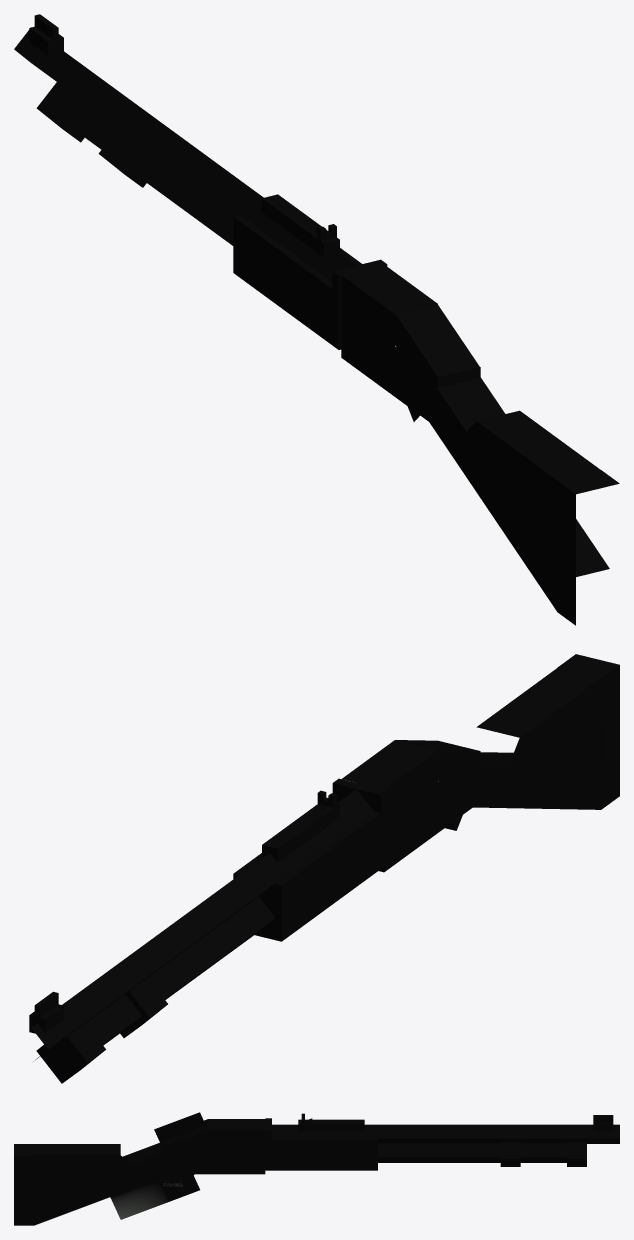
File: jeg_repeating_shotgun.glb
3 views of the same model, one above another, from view 1: azimuth 30°, elevation 25°; view 2: azimuth 150°, elevation 25°; view 3: azimuth 270°, elevation 25° (orthographic). The views are drawn at different scales.
Parts seen in each view (by area): view 1: Gun; view 2: Gun; view 3: Gun.
Part boxes in pixels (x1,y1,x2,y2): Gun: [14, 14, 619, 625]; Gun: [29, 654, 619, 1083]; Gun: [14, 1112, 619, 1225].
Size of the model in its own units: 0.0584 by 0.2186 by 1.11.
1 material, 1 textured.
